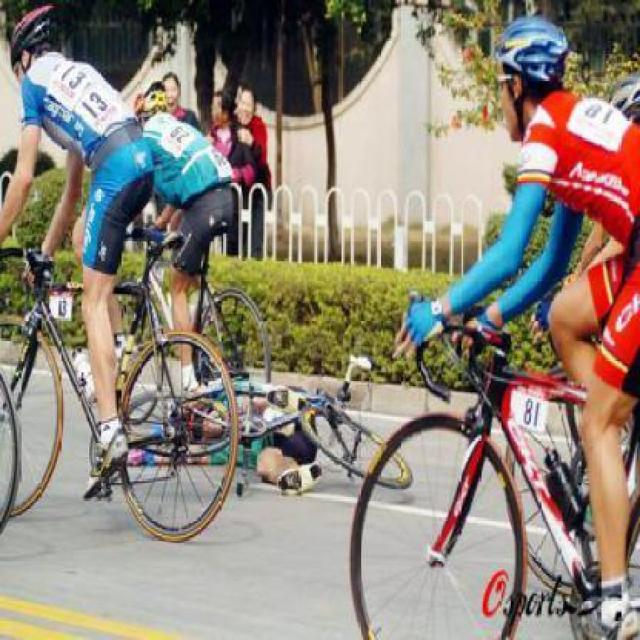fall: (112, 347, 334, 507)
